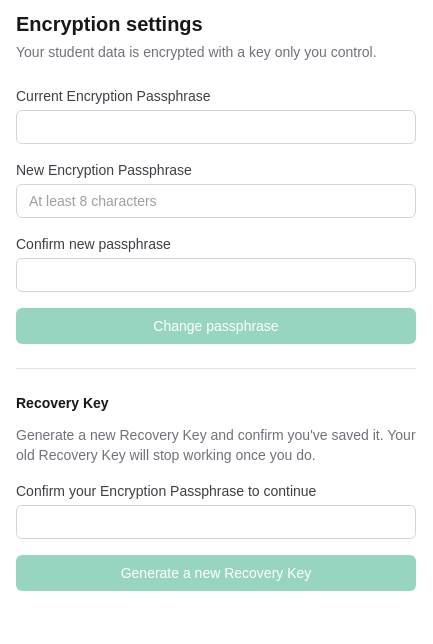
Test: SettingsClient › a returning account (already set up) › unwraps with the current passphrase, re-wraps with the new one, and submits the result
Type "my-old-passphrase" into the password field labelled "Current Encryption Passphrase" at {"x": 216, "y": 127}, box [16, 110, 416, 144]
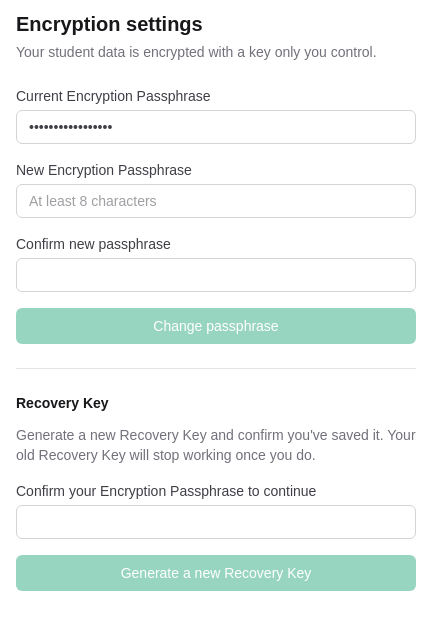
Type "a-brand-new-passphrase" into the password field labelled "New Encryption Passphrase" at {"x": 216, "y": 201}, box [16, 184, 416, 218]
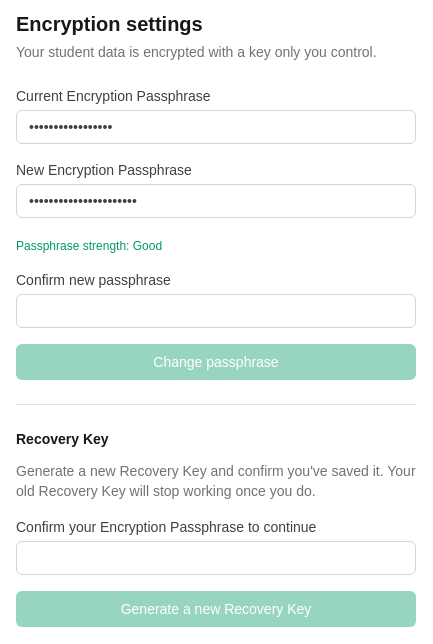
Type "a-brand-new-passphrase" into the password field labelled "Confirm new passphrase" at {"x": 216, "y": 311}, box [16, 294, 416, 328]
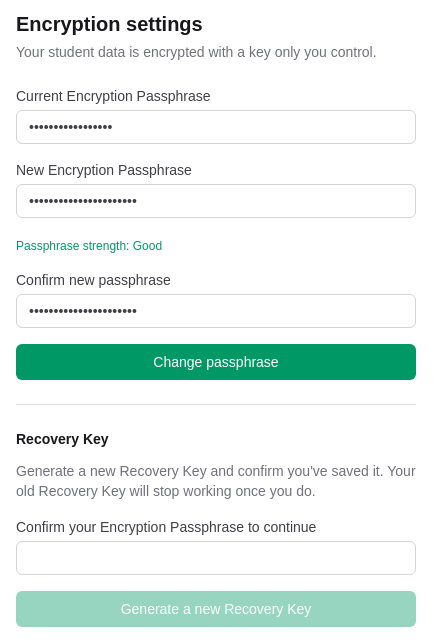
Click the button "Change passphrase" at {"x": 216, "y": 362}, box [16, 344, 416, 380]
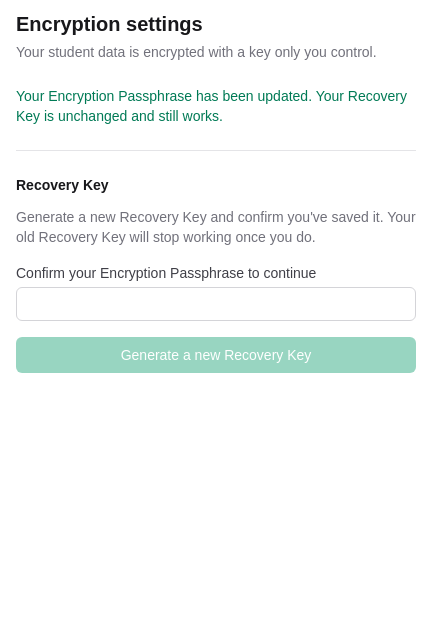
Now the text "Passphrase has been updated" is shown, box [16, 88, 407, 124]
